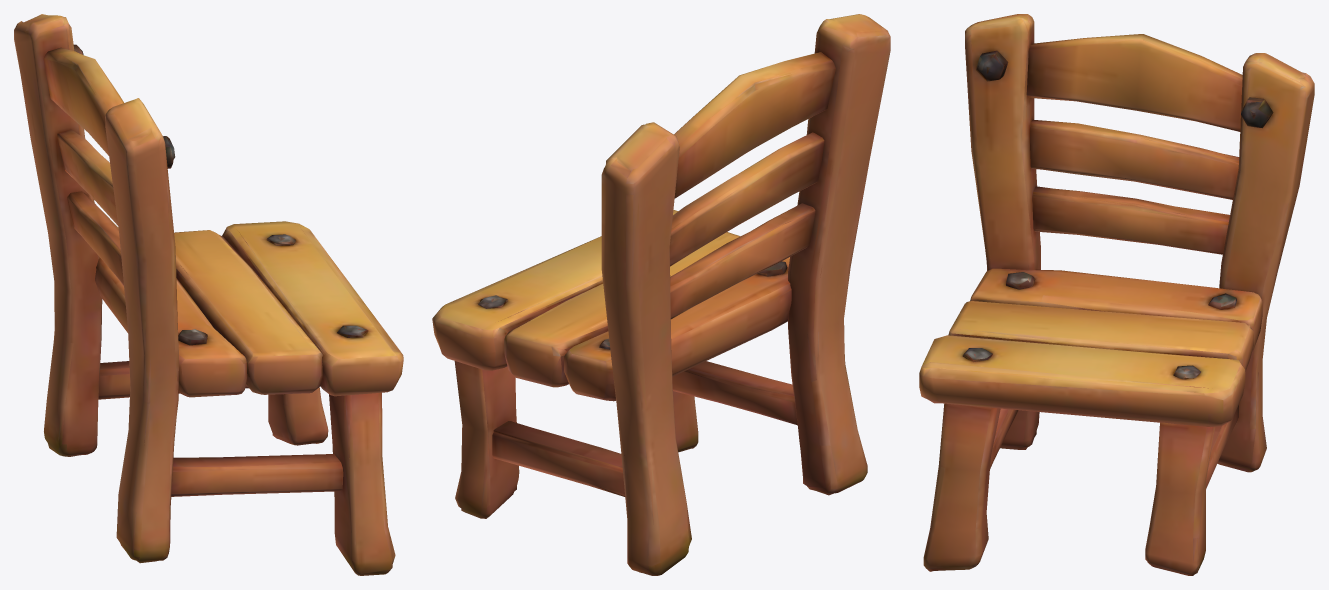
File: wyn_furn_rustic_chair.glb
3 renders of one model, left to right at view 1: azimuth 30°, elevation 25°; view 2: azimuth 150°, elevation 25°; view 3: azimuth 270°, elevation 25°, orthographic. The views are drawn at different scales.
Visible parts, largest first — view 1: tripo_node_92f61199-1d17-44b3-aa79-a9081c5d2fbb; view 2: tripo_node_92f61199-1d17-44b3-aa79-a9081c5d2fbb; view 3: tripo_node_92f61199-1d17-44b3-aa79-a9081c5d2fbb.
Boxes of the visible parts, box(x1,y1,x2,y2) form: tripo_node_92f61199-1d17-44b3-aa79-a9081c5d2fbb: box(14, 14, 403, 575); tripo_node_92f61199-1d17-44b3-aa79-a9081c5d2fbb: box(432, 14, 890, 575); tripo_node_92f61199-1d17-44b3-aa79-a9081c5d2fbb: box(919, 14, 1314, 575).
Bounding box in the file's own units: 0.7193 × 1.1 × 0.8556.
Materials: 1 (1 with a texture image).
